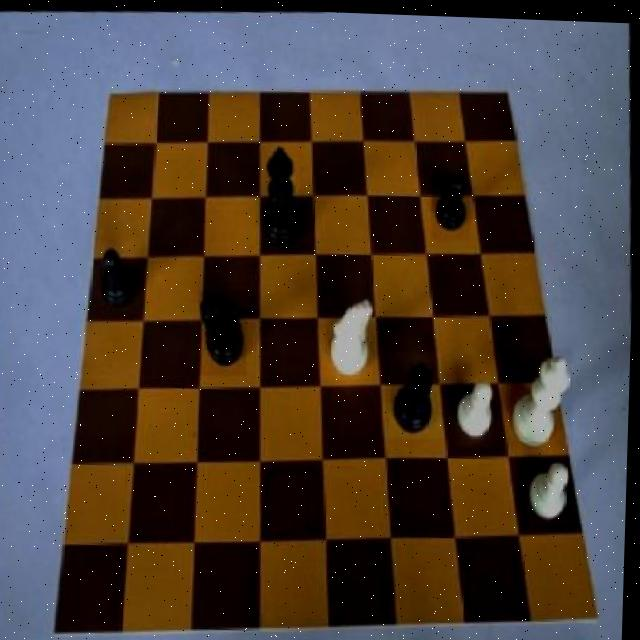black-bishop: (256, 136, 311, 253)
black-king: (199, 289, 251, 375)
black-knight: (93, 240, 145, 317), (430, 166, 473, 238)
black-queen: (389, 349, 447, 438)
white-bishop: (501, 341, 577, 446)
white-king: (318, 295, 382, 377)
white-knight: (521, 451, 579, 527), (455, 372, 505, 444)
